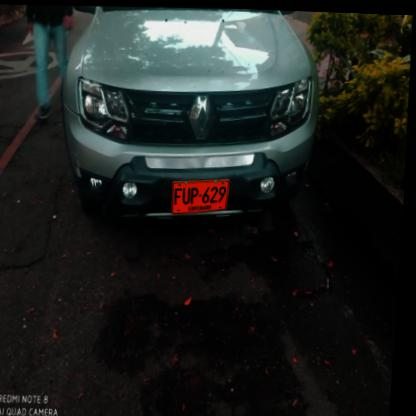placa: (170, 176, 235, 215)
